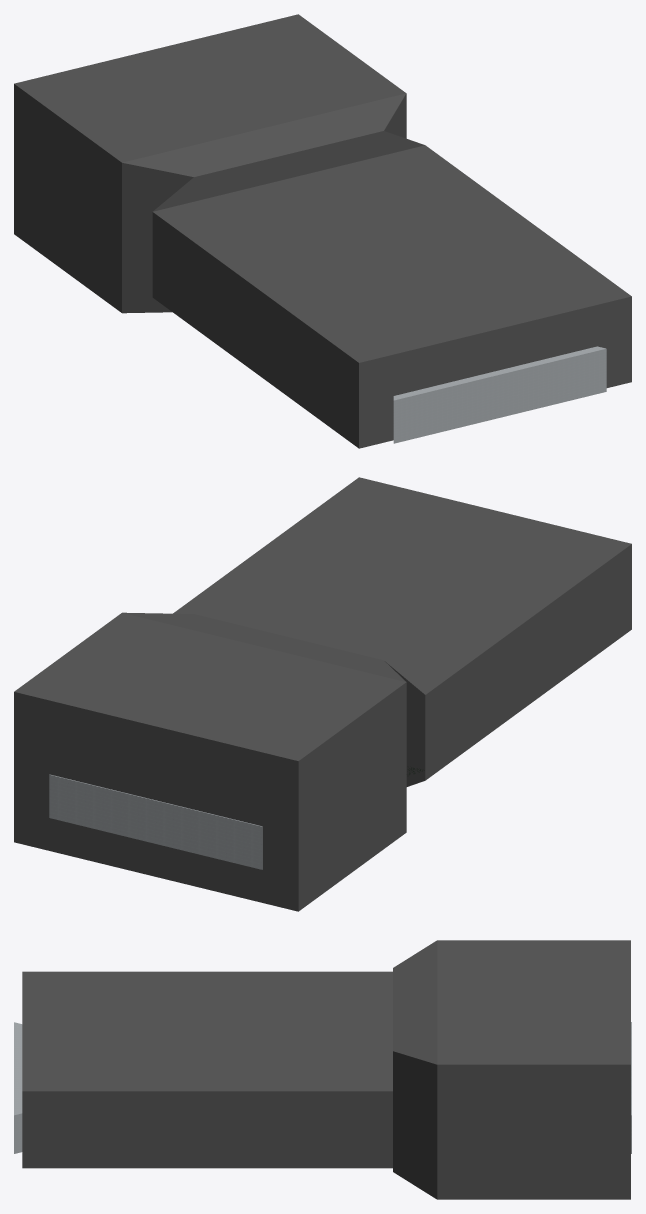
File: testlevel.fbx
3 views of the same model, one above another, from view 1: azimuth 30°, elevation 25°; view 2: azimuth 150°, elevation 25°; view 3: azimuth 270°, elevation 25° (orthographic). The views are drawn at different scales.
Visible parts, largest first — view 1: Cube, Cube.001; view 2: Cube, Cube.004; view 3: Cube, Cube.001.
Part boxes in pixels (x1=…): Cube: x1=14, y1=14, x2=631, y2=448; Cube.001: x1=393, y1=346, x2=606, y2=443; Cube: x1=14, y1=477, x2=631, y2=911; Cube.004: x1=49, y1=774, x2=262, y2=869; Cube: x1=22, y1=940, x2=630, y2=1199; Cube.001: x1=14, y1=1022, x2=22, y2=1153.
Size of the model in its own units: 4692 by 2372 by 9837.
